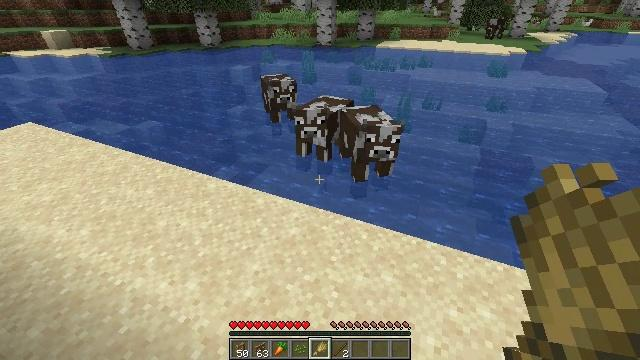cow: (341, 104, 403, 180), (294, 96, 355, 157), (262, 74, 297, 120), (486, 16, 510, 39)
